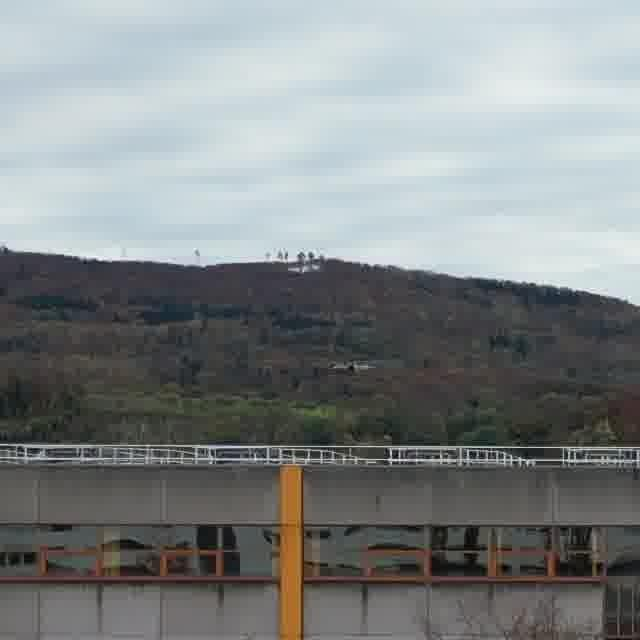Drohne: (330, 362, 374, 372)
